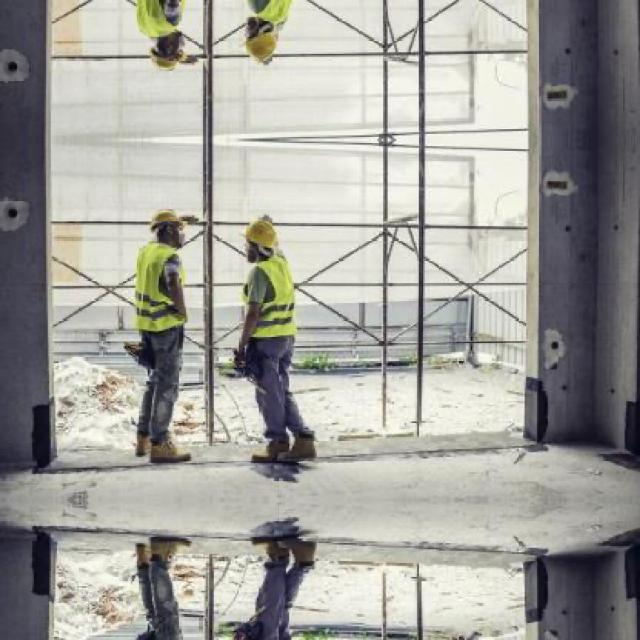2: (227, 212, 316, 457), (123, 202, 197, 463), (224, 540, 316, 638), (121, 534, 197, 638), (224, 0, 316, 66), (121, 0, 197, 77)
helmet: (242, 211, 280, 260), (242, 17, 280, 66), (149, 204, 189, 242), (149, 36, 189, 72)
